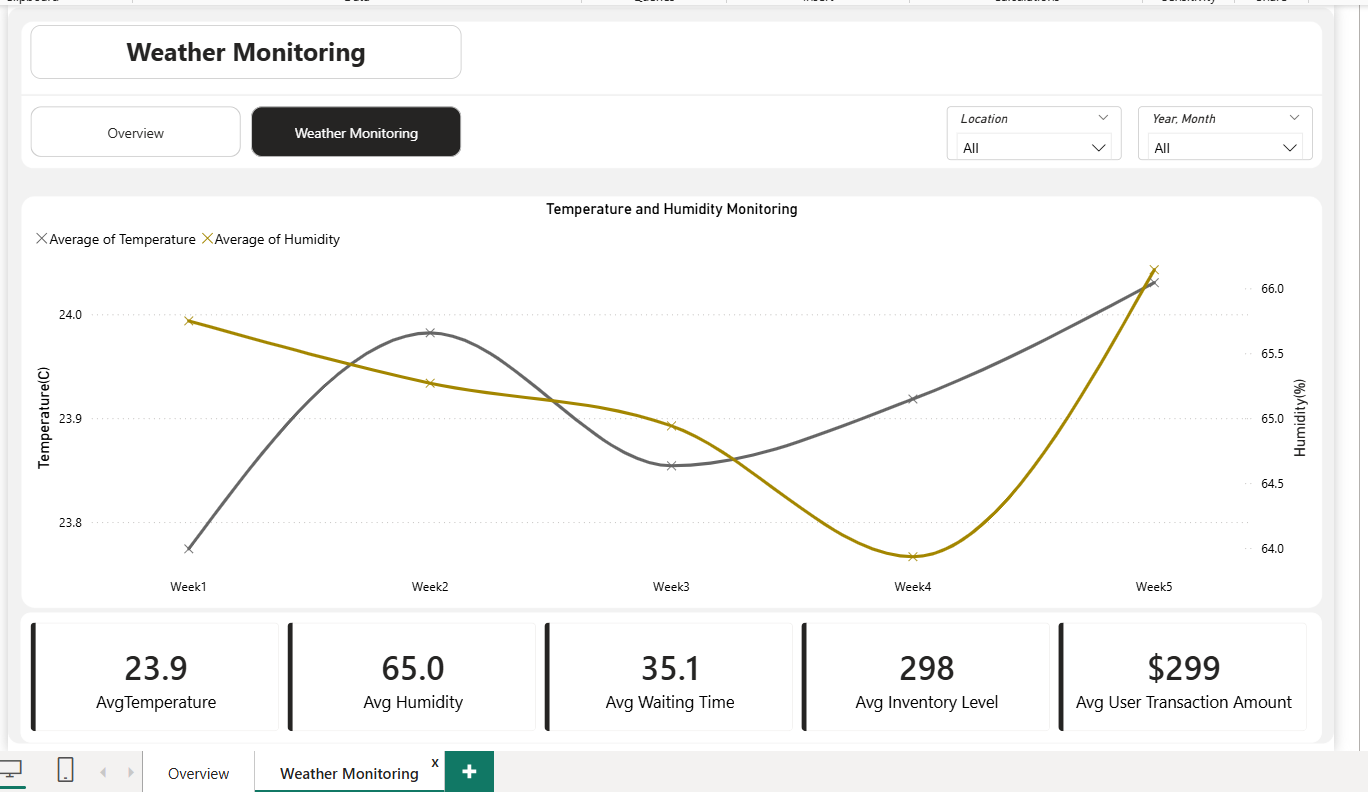

The dashboard page shown, as its layout file describes it:
{"tool":"powerbi","page":{"name":"Weather Monitoring","canvas":[1280,720],"ordinal":1},"visuals":[{"type":"slicer","fields":{"Values":["LogisticsData.City"]},"box":[906,97.7,168.9,51.9],"z":0},{"type":"slicer","fields":{"Values":["Date.Year","Date.Month"]},"box":[1090.6,97.7,168.9,51.9],"z":1000},{"type":"textbox","box":[21.7,19.3,416.2,51.9],"z":2000},{"type":"pageNavigator","box":[21.7,97.7,416.2,49.5],"z":3000},{"type":"lineChart","title":"Temperature and Humidity Monitoring","fields":{"Category":["Date.WeekOfMonth"],"Y":["Avg(LogisticsData.Temperature)"],"Y2":["Avg(LogisticsData.Humidity)"]},"box":[21.7,188.2,1237.8,390.9],"z":4000},{"type":"cardVisual","fields":{"Data":["Avg(LogisticsData.Temperature)","Avg(LogisticsData.Humidity)","Avg(LogisticsData.Waiting Time)","Avg(LogisticsData.Inventory Level)","Avg(LogisticsData.User Transaction Amount)"]},"box":[12.1,586,1255.9,125.5],"z":5000}]}

Visuals, with their boxes on the page's 1280x720 design canvas (x1, y1, x2, y2). These are canvas units, not pixel positions in the 1368x792 screenshot, which may show the page scaled, cropped or inside an application window:
slicer - LogisticsData.City: left=906, top=98, right=1075, bottom=150
slicer - Date.Year x Date.Month: left=1091, top=98, right=1260, bottom=150
textbox: left=22, top=19, right=438, bottom=71
pageNavigator: left=22, top=98, right=438, bottom=147
"Temperature and Humidity Monitoring" lineChart: left=22, top=188, right=1260, bottom=579
cardVisual - Avg(LogisticsData.Temperature) x Avg(LogisticsData.Humidity): left=12, top=586, right=1268, bottom=712
